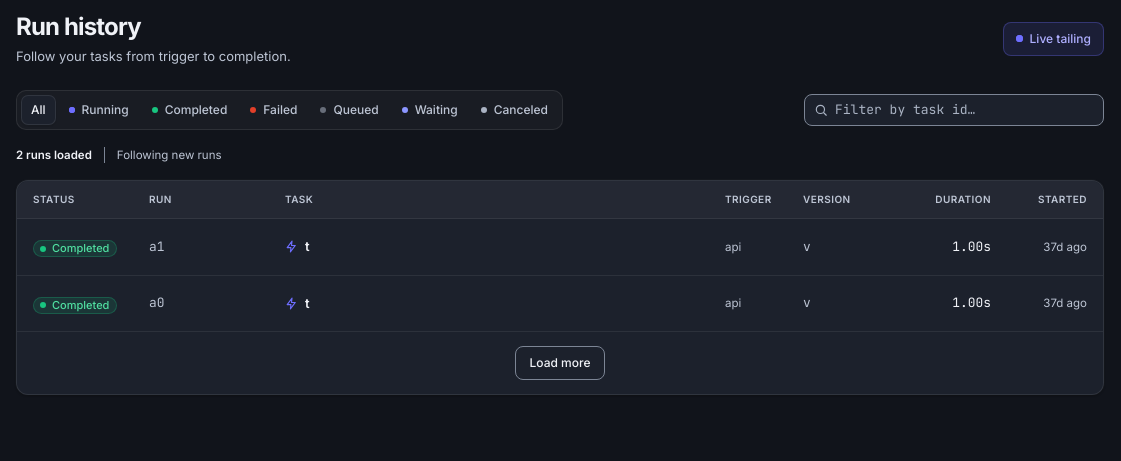
Scenario: dashboard smoke — the states that used to need a live daemon › 5. pagination: Load more appends the next cursor page, then ends
This screenshot has width=1121, height=461.
Expected: the text "a1" is shown, left=149, top=238, right=164, bottom=256
What coordinates should you click on to do the following:
click the button "Load more"
I would click on:
 (560, 363)
Its box is left=514, top=346, right=606, bottom=380.
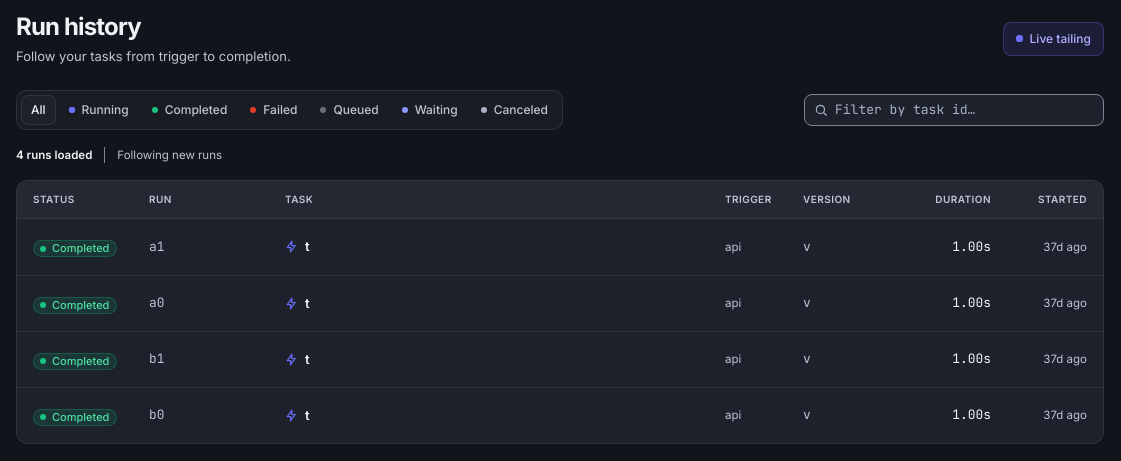
Result: the text "b1" is shown at left=149, top=350, right=164, bottom=369
Result: the button "Load more" is gone
Result: the text "a1" is shown 4 times at left=149, top=238, right=164, bottom=256; left=149, top=294, right=164, bottom=313; left=149, top=350, right=164, bottom=369; left=149, top=406, right=164, bottom=425
